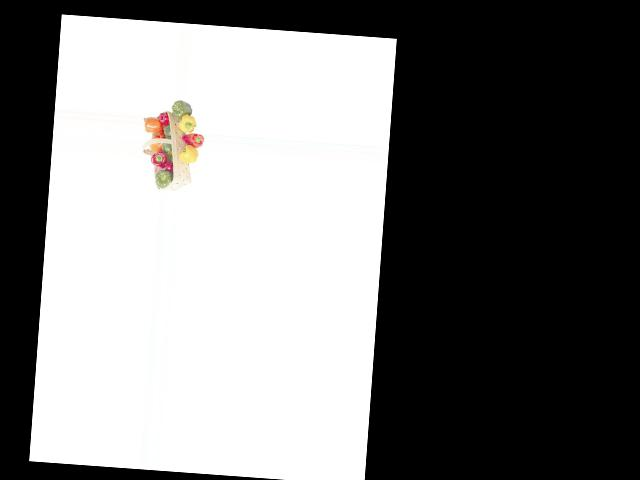bell_pepper: (154, 167, 172, 188)
